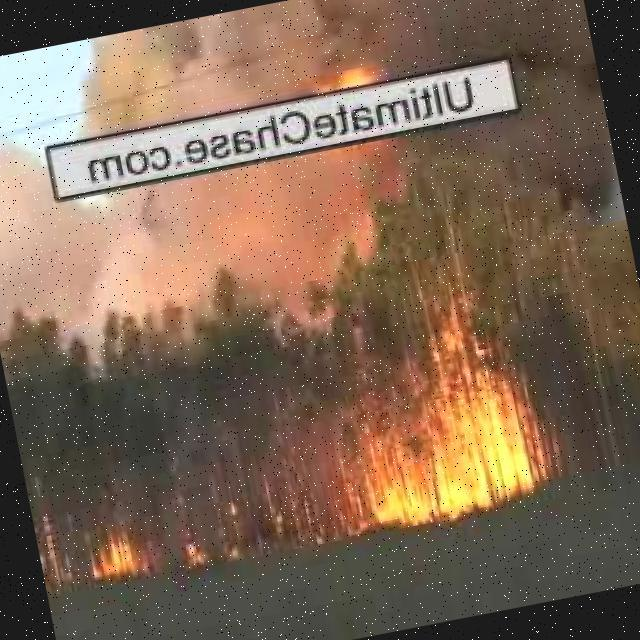Fire: (315, 309, 560, 541), (209, 471, 343, 571), (81, 529, 155, 584), (33, 515, 70, 595), (318, 64, 373, 94), (183, 538, 206, 572)
